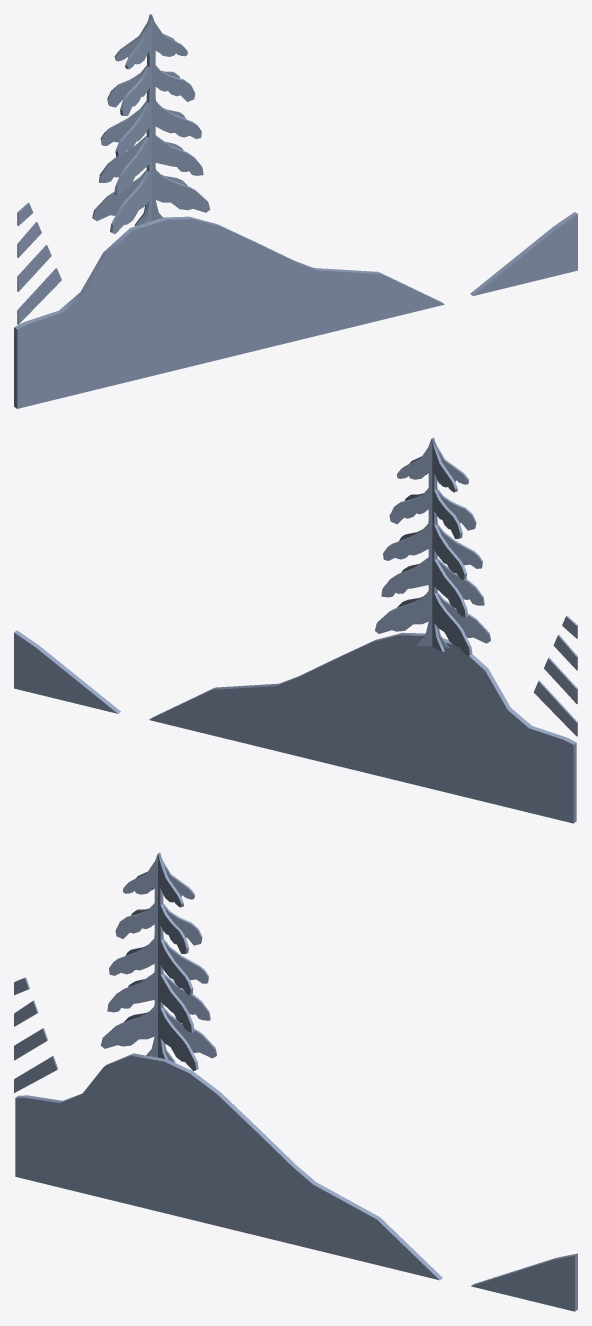
The model's file is frame_0118.glb.
3 renders of one model, top to bottom at view 1: azimuth 30°, elevation 25°; view 2: azimuth 150°, elevation 25°; view 3: azimuth 330°, elevation 25°, orthographic.
Parts seen in each view (by area): view 1: export_trees_001.002; view 2: export_trees_001.002; view 3: export_trees_001.002.
Boxes of the visible parts, x1,y1,x2,y2 form: export_trees_001.002: [14, 14, 577, 408]; export_trees_001.002: [14, 437, 577, 823]; export_trees_001.002: [14, 852, 577, 1311].
Size of the model in its own units: 0.4327 by 0.2619 by 0.0288.
